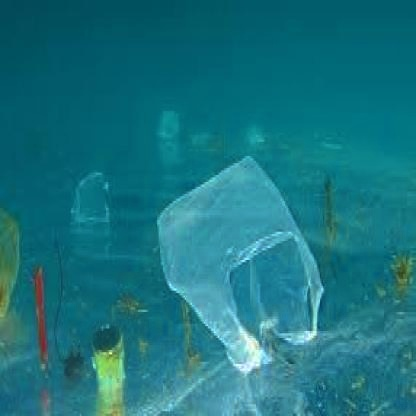pbag: (156, 154, 326, 376)
